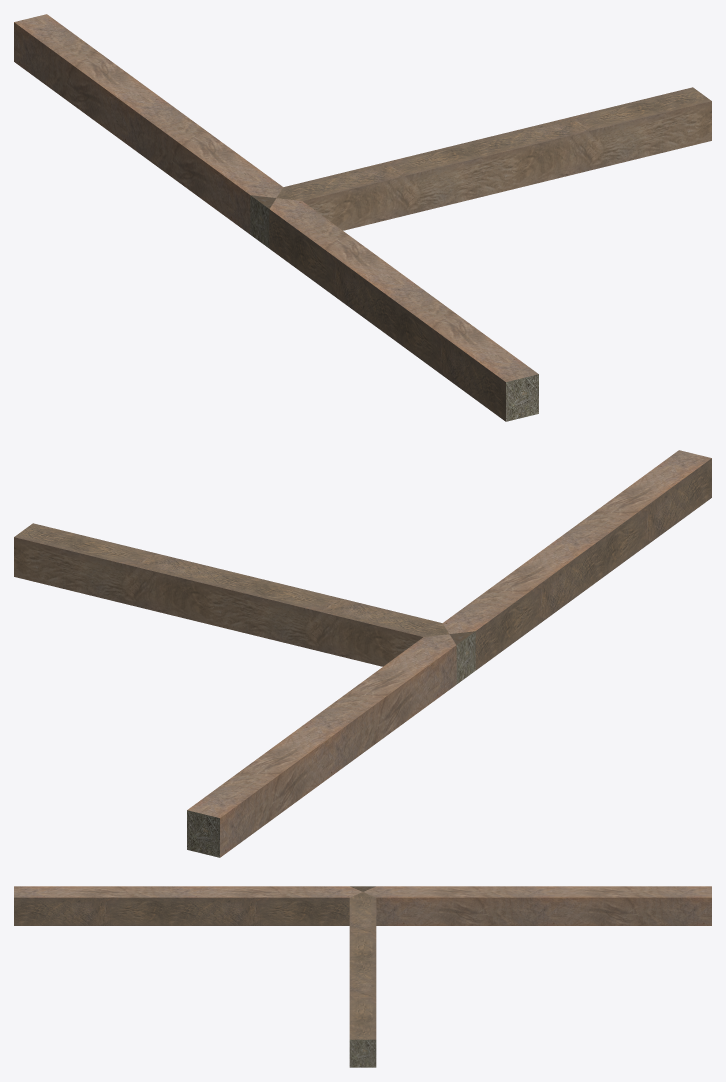
The model's file is WoodCenterScaffoldG.fbx.
3 views of the same model, one above another, from view 1: azimuth 30°, elevation 25°; view 2: azimuth 150°, elevation 25°; view 3: azimuth 270°, elevation 25° (orthographic). The views are drawn at different scales.
Parts seen in each view (by area): view 1: WoodCenterScaffoldG; view 2: WoodCenterScaffoldG; view 3: WoodCenterScaffoldG.
Boxes of the visible parts, box(x1,y1,x2,y2) form: WoodCenterScaffoldG: box(14, 14, 711, 421); WoodCenterScaffoldG: box(14, 450, 711, 857); WoodCenterScaffoldG: box(14, 886, 711, 1067).
Bounding box in the file's own units: 404 × 34.6 × 778.
